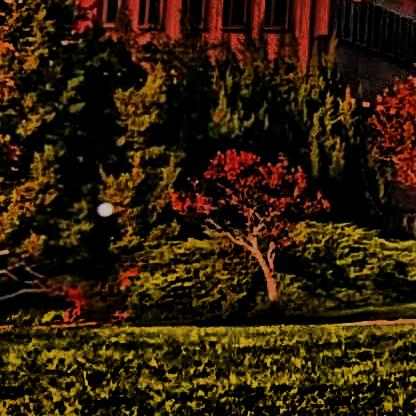golfball: (95, 199, 112, 214)
